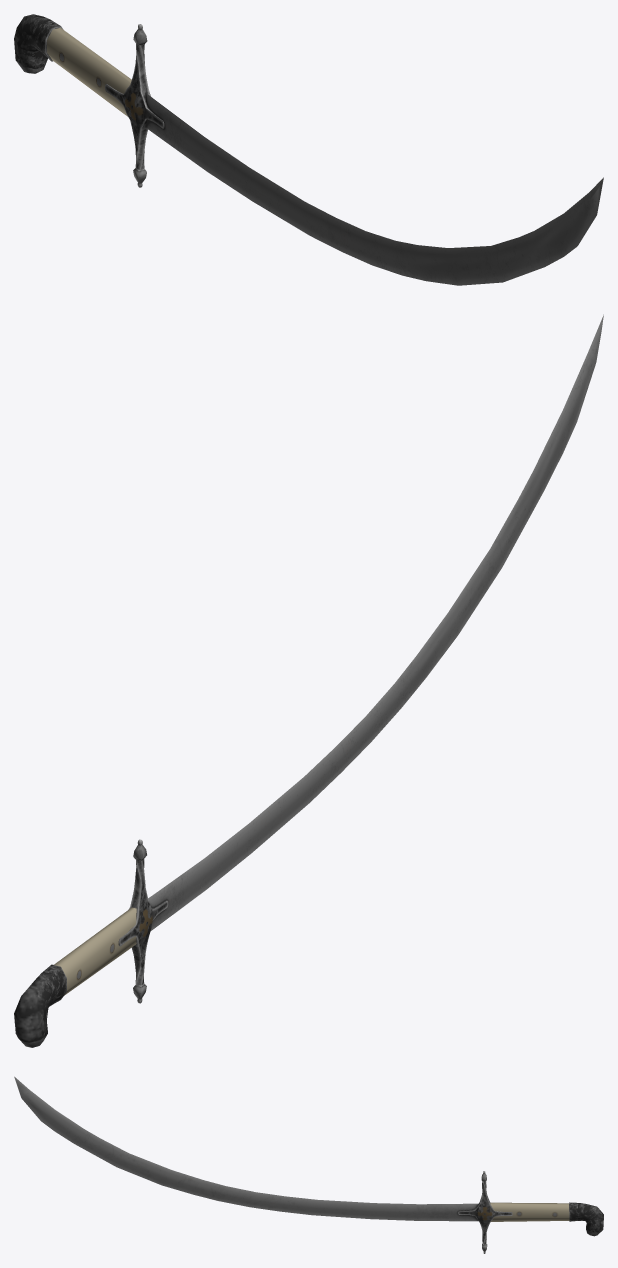
File: Scimitar.fbx
3 views of the same model, one above another, from view 1: azimuth 30°, elevation 25°; view 2: azimuth 150°, elevation 25°; view 3: azimuth 270°, elevation 25° (orthographic). The views are drawn at different scales.
Visible parts, largest first — view 1: Scimitar; view 2: Scimitar; view 3: Scimitar.
Boxes of the visible parts, x1,y1,x2,y2 form: Scimitar: [14, 14, 603, 285]; Scimitar: [14, 314, 603, 1047]; Scimitar: [14, 1076, 603, 1253].
Bounding box in the file's own units: 2.39 × 30.53 × 91.92.
